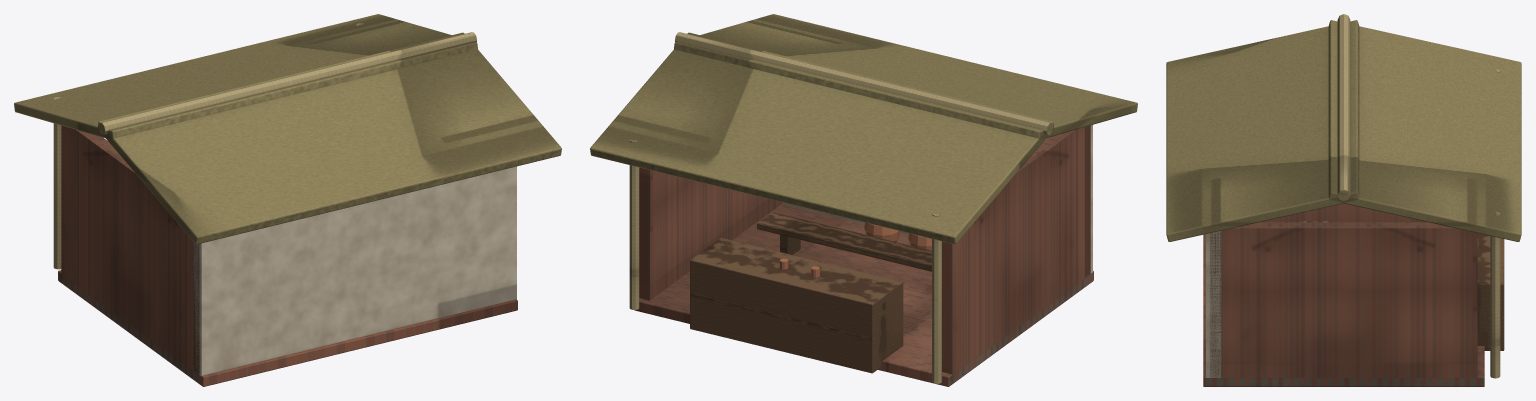
File: toddy_shop.glb
The picture shows the model from 3 angles, left to right: view 1: azimuth 30°, elevation 25°; view 2: azimuth 150°, elevation 25°; view 3: azimuth 270°, elevation 25°; orthographic projection. The views are drawn at different scales.
Visible parts, largest first — view 1: Thatch_Back, Wall_Back.001, Wall_Side_-2.001, Thatch_Front, Floor_Plinth.001, Thatch_Ridge, Front_Post_-2.001; view 2: Thatch_Front, Wall_Side_-2.001, Counter, Thatch_Back, Floor_Plinth.001, Wall_Side_2.001, Thatch_Ridge, Bench, Front_Post_2.001, Front_Post_-2.001, Wall_Back.001; view 3: Wall_Side_2.001, Thatch_Back, Thatch_Front, Floor_Plinth.001, Thatch_Ridge, Wall_Back.001, Counter, Wall_Side_-2.001, Front_Post_2.001.
Boxes of the visible parts, x1,y1,x2,y2 form: Thatch_Back: [98, 32, 561, 244]; Wall_Back.001: [193, 166, 516, 376]; Wall_Side_-2.001: [61, 125, 199, 374]; Thatch_Front: [14, 14, 477, 138]; Floor_Plinth.001: [58, 270, 517, 386]; Thatch_Ridge: [99, 32, 476, 134]; Front_Post_-2.001: [53, 97, 61, 269]; Thatch_Front: [590, 32, 1053, 244]; Wall_Side_-2.001: [942, 125, 1090, 374]; Counter: [690, 238, 903, 373]; Thatch_Back: [674, 14, 1137, 139]; Floor_Plinth.001: [634, 203, 1093, 386]; Wall_Side_2.001: [639, 167, 782, 300]; Thatch_Ridge: [675, 32, 1052, 134]; Bench: [757, 212, 931, 271]; Front_Post_2.001: [629, 139, 639, 309]; Front_Post_-2.001: [932, 213, 941, 383]; Wall_Back.001: [782, 125, 1092, 273]; Wall_Side_2.001: [1210, 222, 1477, 377]; Thatch_Back: [1166, 20, 1359, 241]; Thatch_Front: [1328, 20, 1521, 241]; Floor_Plinth.001: [1203, 234, 1484, 386]; Thatch_Ridge: [1337, 14, 1350, 200]; Wall_Back.001: [1206, 231, 1221, 377]; Counter: [1477, 233, 1504, 350]; Wall_Side_-2.001: [1260, 203, 1427, 222]; Front_Post_2.001: [1490, 212, 1500, 378].
Bounding box in the file's own units: 5.9 × 3.31 × 5.04.
Materials: 1 (1 with a texture image).
